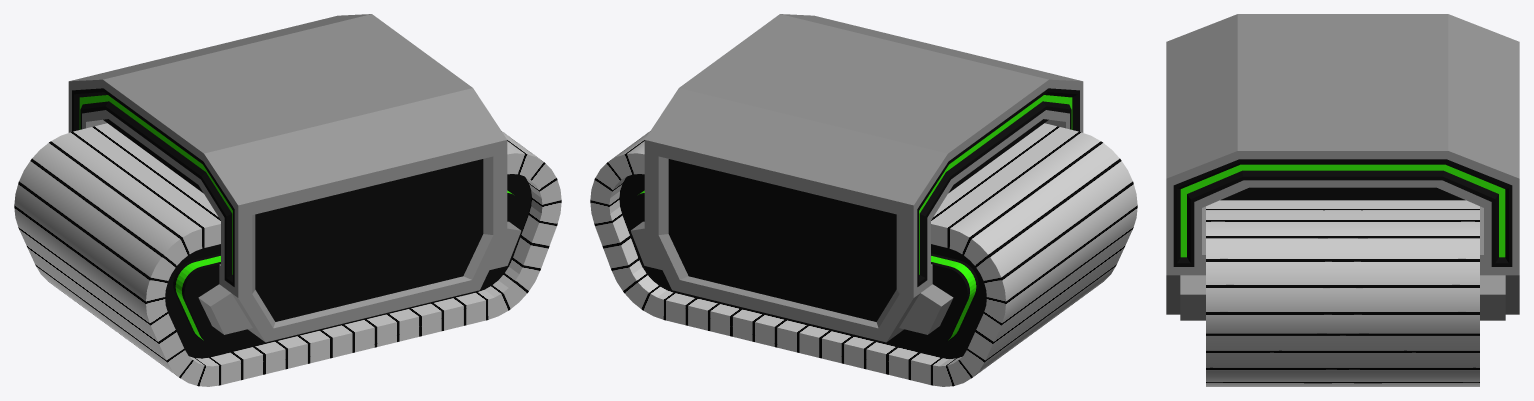
File: SM_DefenseCannonTread.FBX
3 renders of one model, left to right at view 1: azimuth 30°, elevation 25°; view 2: azimuth 150°, elevation 25°; view 3: azimuth 270°, elevation 25°, orthographic. The views are drawn at different scales.
Visible parts, largest first — view 1: Object002; view 2: Object002; view 3: Object002.
Part boxes in pixels (left/top/right/bottom): Object002: left=14, top=14, right=561, bottom=386; Object002: left=590, top=14, right=1137, bottom=386; Object002: left=1166, top=14, right=1519, bottom=386.
Size of the model in its own units: 3458 by 1755 by 2442.
4 materials, 1 textured.
